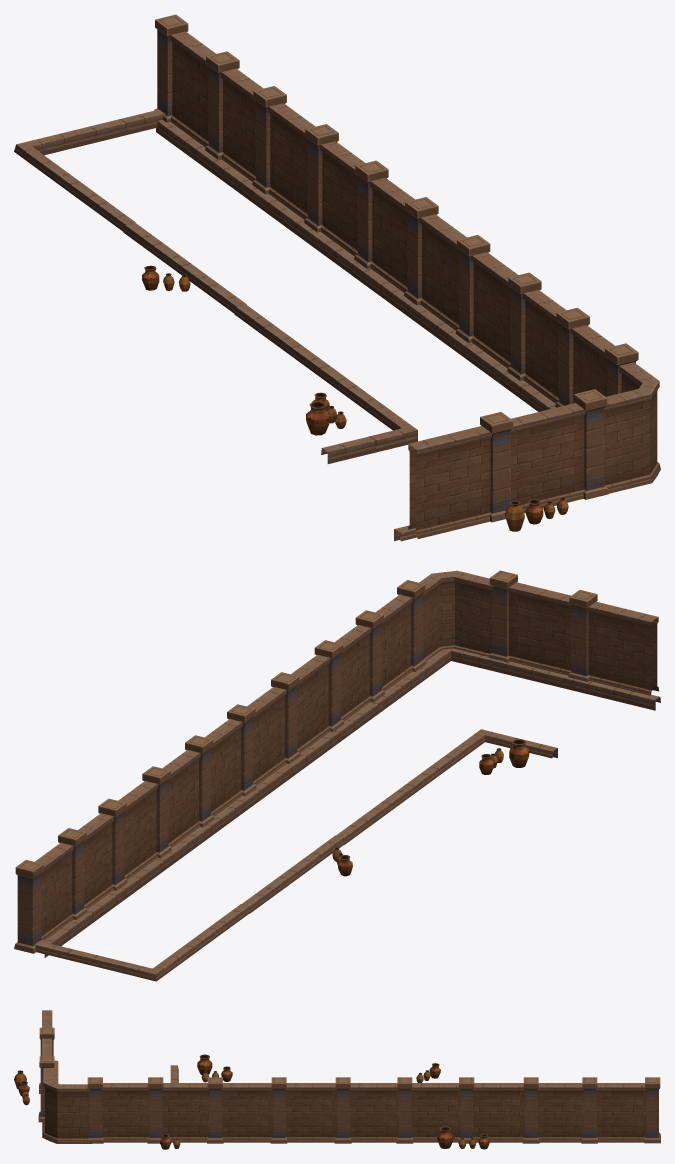
Rendered from Area_06_12.fbx.
The picture shows the model from 3 angles, top to bottom: view 1: azimuth 30°, elevation 25°; view 2: azimuth 150°, elevation 25°; view 3: azimuth 270°, elevation 25°; orthographic projection. The views are drawn at different scales.
Visible parts, largest first — view 1: Area_06_12; view 2: Area_06_12; view 3: Area_06_12.
Boxes of the visible parts, x1,y1,x2,y2 form: Area_06_12: [14, 14, 660, 541]; Area_06_12: [14, 570, 660, 981]; Area_06_12: [14, 1010, 660, 1149].
Size of the model in its own units: 1629 by 544 by 4857.
